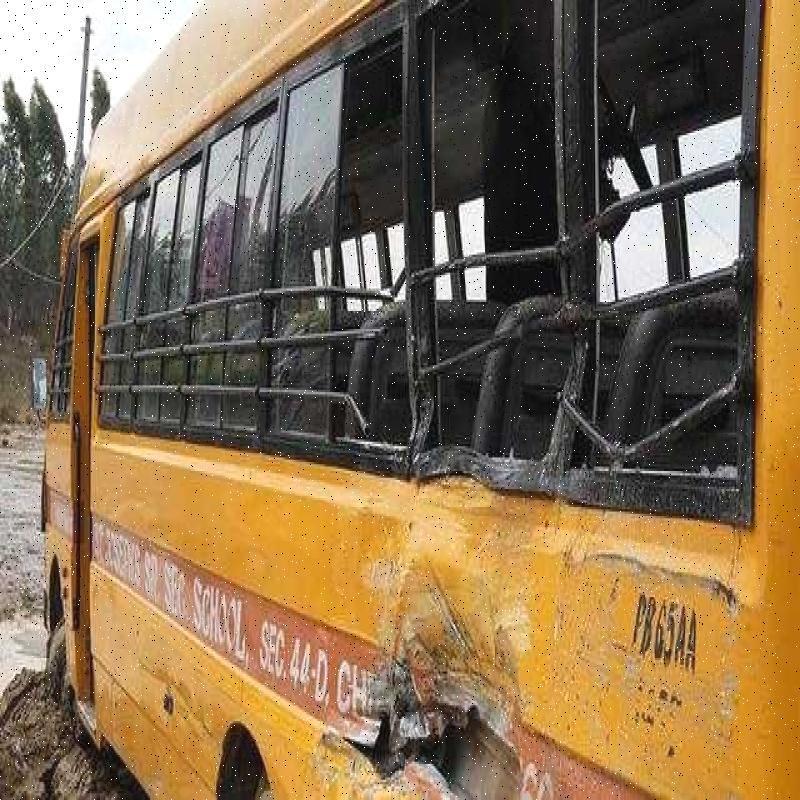bus: (46, 0, 730, 800)
